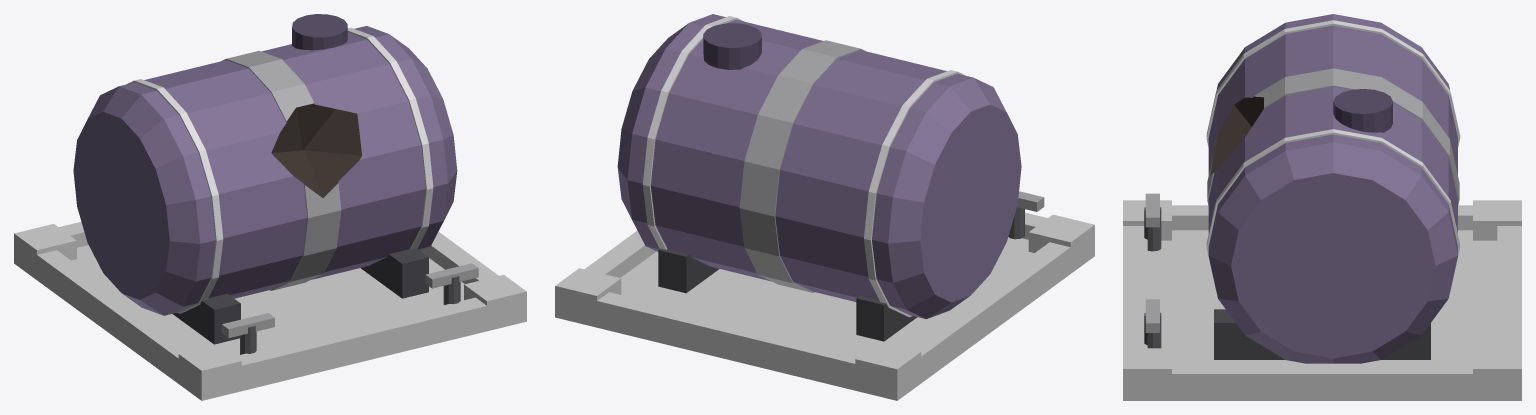
Rendered from vge_d_largechemfueltank.obj.
3 views of the same model, side by side, from view 1: azimuth 30°, elevation 25°; view 2: azimuth 150°, elevation 25°; view 3: azimuth 270°, elevation 25° (orthographic). The views are drawn at different scales.
Visible parts, largest first — view 1: vge_d_largechemfueltank; view 2: vge_d_largechemfueltank; view 3: vge_d_largechemfueltank.
Part boxes in pixels (x1=…): vge_d_largechemfueltank: x1=14, y1=14, x2=526, y2=400; vge_d_largechemfueltank: x1=555, y1=14, x2=1094, y2=400; vge_d_largechemfueltank: x1=1123, y1=14, x2=1521, y2=400.
Size of the model in its own units: 2.23 by 1.55 by 2.23.
